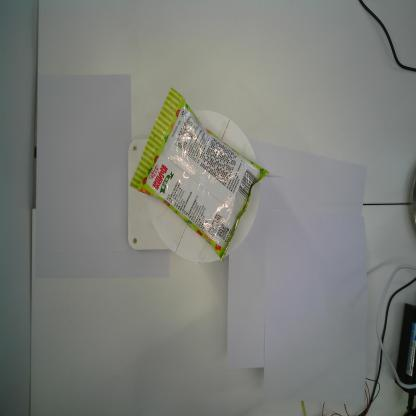Puffed Food: (128, 87, 270, 263)
